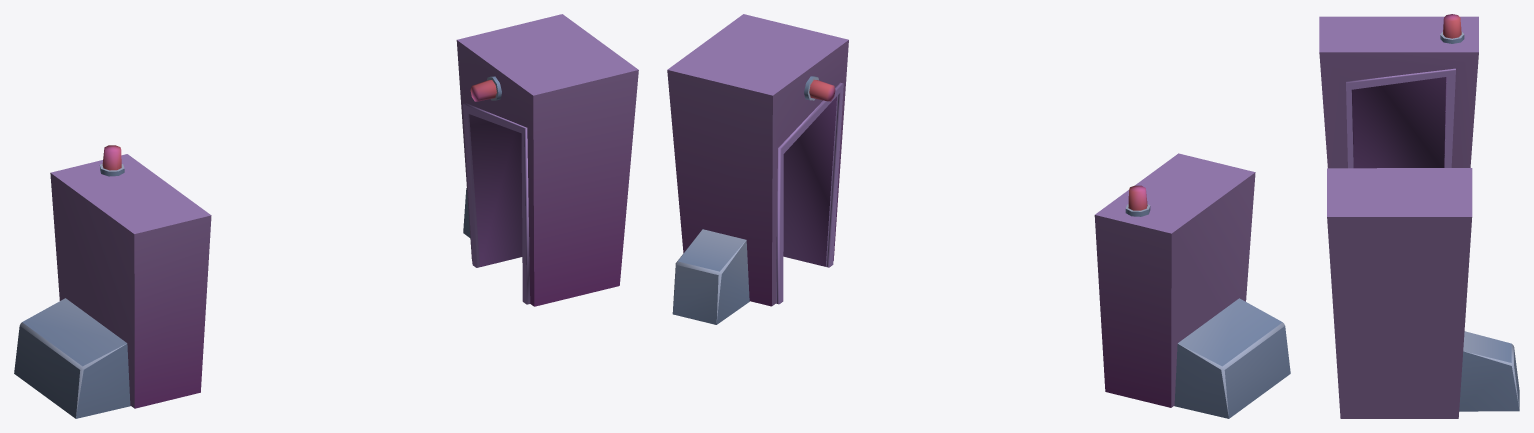
Rendered from prop-factory_conveyor_belt_B.glb.
3 renders of one model, left to right at view 1: azimuth 30°, elevation 25°; view 2: azimuth 150°, elevation 25°; view 3: azimuth 270°, elevation 25°, orthographic. The views are drawn at different scales.
Visible parts, largest first — view 1: prop-factory_conveyor_belt_B; view 2: prop-factory_conveyor_belt_B; view 3: prop-factory_conveyor_belt_B.
Boxes of the visible parts, left/top/right/bottom form: prop-factory_conveyor_belt_B: left=14, top=14, right=638, bottom=418; prop-factory_conveyor_belt_B: left=667, top=14, right=1290, bottom=418; prop-factory_conveyor_belt_B: left=1319, top=14, right=1519, bottom=418.
Bounding box in the file's own units: 16.67 × 6.28 × 5.48.
